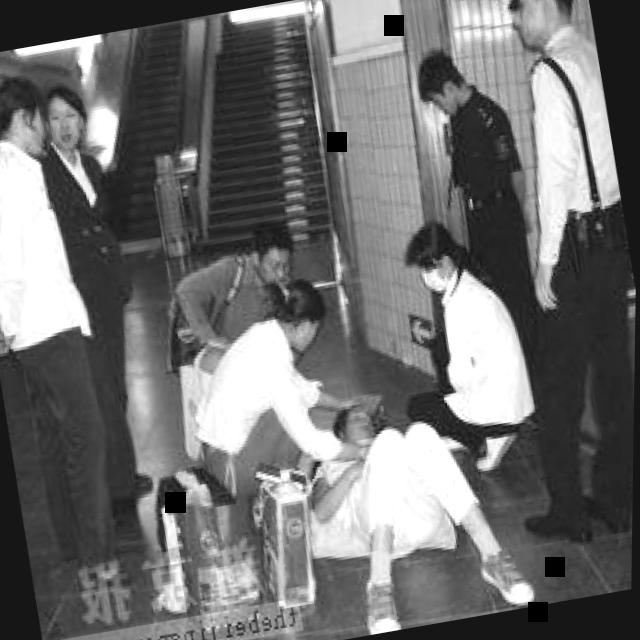Fall-Detected: (292, 355, 550, 640)
